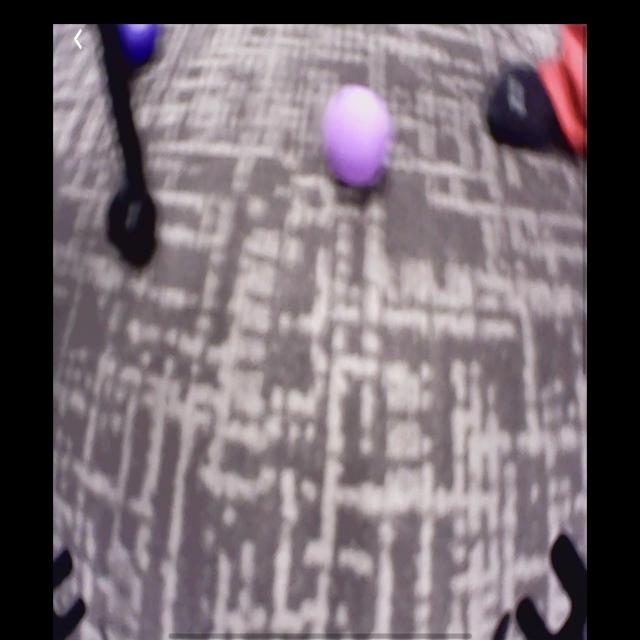ball: (324, 85, 390, 187), (121, 24, 160, 64)
